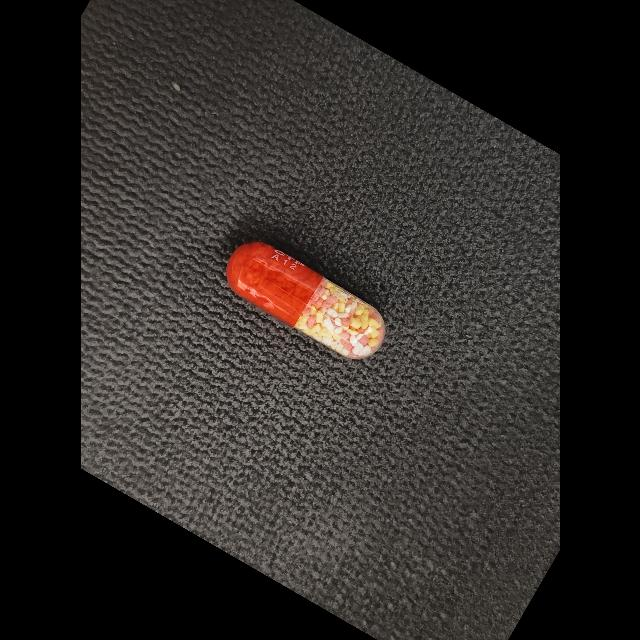Intact Capsule: (226, 242, 385, 359)
